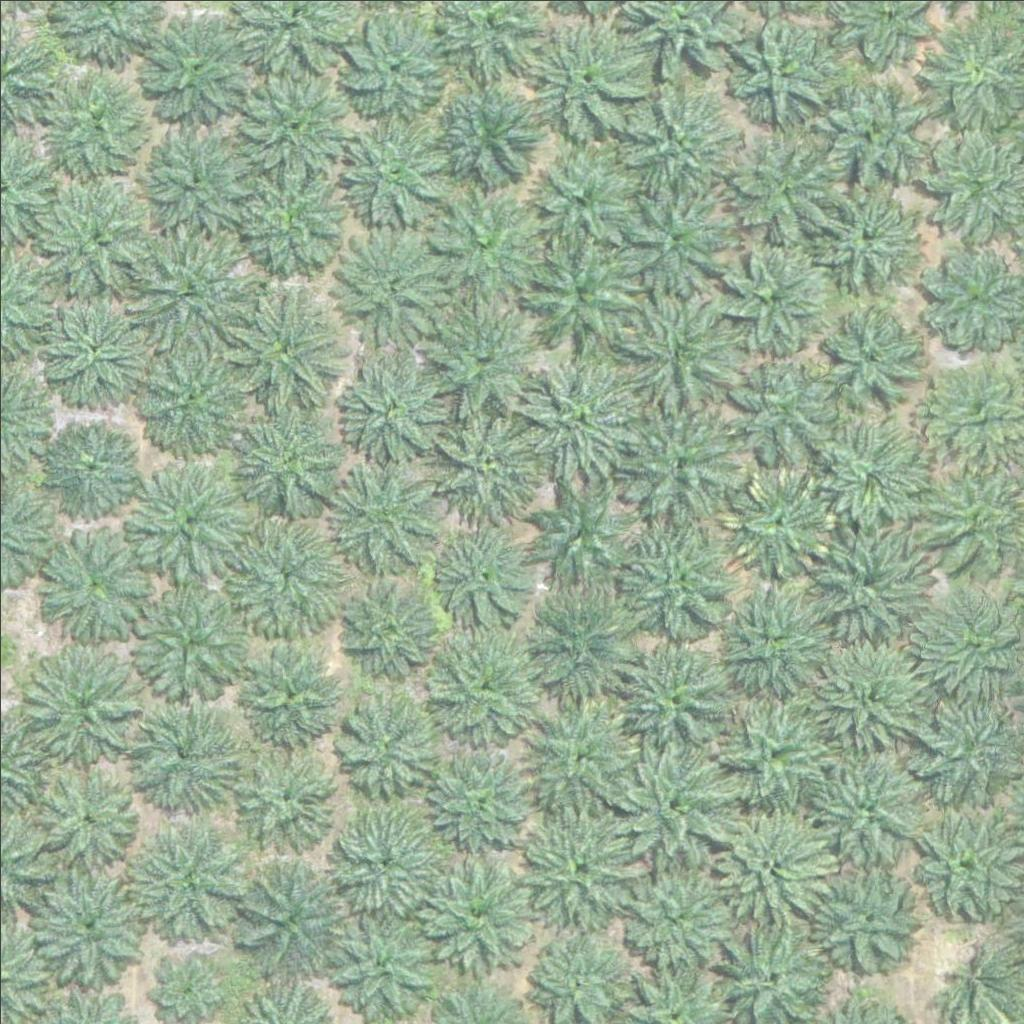Kelapa_Sawit: (803, 850, 928, 976), (694, 795, 819, 921), (410, 848, 535, 974), (125, 815, 250, 941), (24, 858, 149, 984), (128, 332, 253, 458), (221, 513, 346, 639), (222, 391, 347, 517), (222, 279, 347, 405), (415, 737, 540, 863), (427, 400, 552, 526), (419, 289, 544, 415), (523, 354, 648, 480), (519, 584, 644, 710), (523, 691, 648, 817), (516, 799, 641, 925), (611, 741, 736, 867), (615, 638, 740, 764), (615, 519, 740, 645), (617, 399, 742, 525), (627, 284, 752, 410), (611, 176, 736, 302), (613, 82, 738, 208), (521, 237, 646, 363), (517, 138, 642, 264), (521, 17, 646, 143), (429, 182, 554, 308), (335, 100, 460, 226), (332, 223, 457, 349), (225, 60, 350, 186), (44, 170, 169, 296), (233, 850, 358, 975), (130, 461, 255, 586), (128, 578, 253, 703), (321, 798, 446, 923), (225, 155, 350, 280), (39, 60, 164, 185), (715, 695, 828, 809), (715, 587, 828, 701), (615, 859, 728, 972), (332, 682, 445, 795), (808, 175, 921, 288), (823, 79, 936, 192), (426, 75, 539, 188), (142, 9, 255, 122), (141, 123, 254, 236), (128, 238, 241, 351), (813, 635, 925, 749), (809, 746, 921, 860), (730, 127, 842, 241), (37, 534, 149, 647), (27, 288, 139, 401), (131, 695, 243, 808), (229, 740, 341, 853), (341, 352, 453, 465), (325, 458, 437, 571), (428, 623, 540, 736), (722, 466, 834, 579), (723, 350, 835, 463), (816, 297, 928, 410), (816, 421, 928, 534), (809, 523, 921, 636), (715, 241, 827, 354), (728, 15, 840, 128), (337, 5, 449, 118), (39, 769, 139, 870), (32, 651, 132, 752), (39, 414, 139, 515), (241, 642, 341, 743), (337, 576, 437, 677), (432, 526, 532, 627), (530, 486, 630, 586), (332, 918, 431, 1019)
